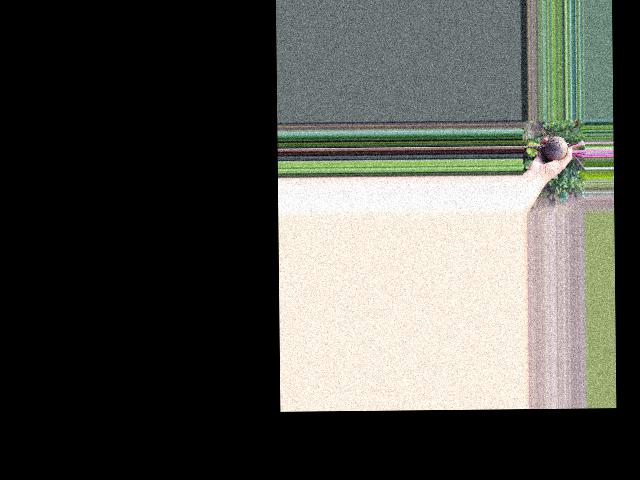beet: (521, 126, 585, 170)
